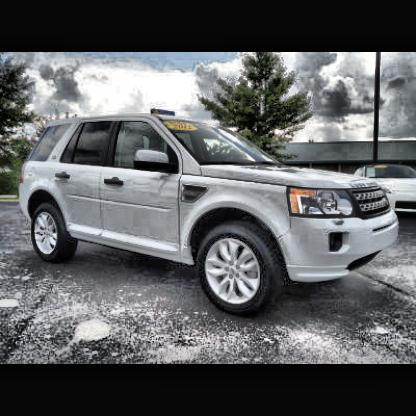Land Rover LR2 SUV 2012: (18, 107, 402, 315)
